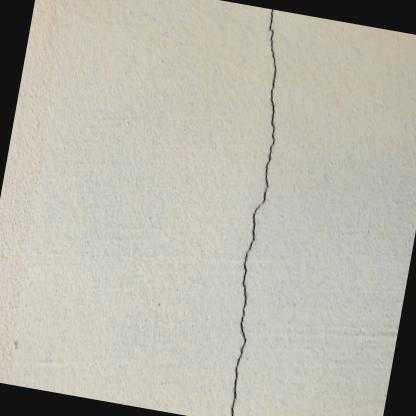crack: (229, 8, 276, 416)
